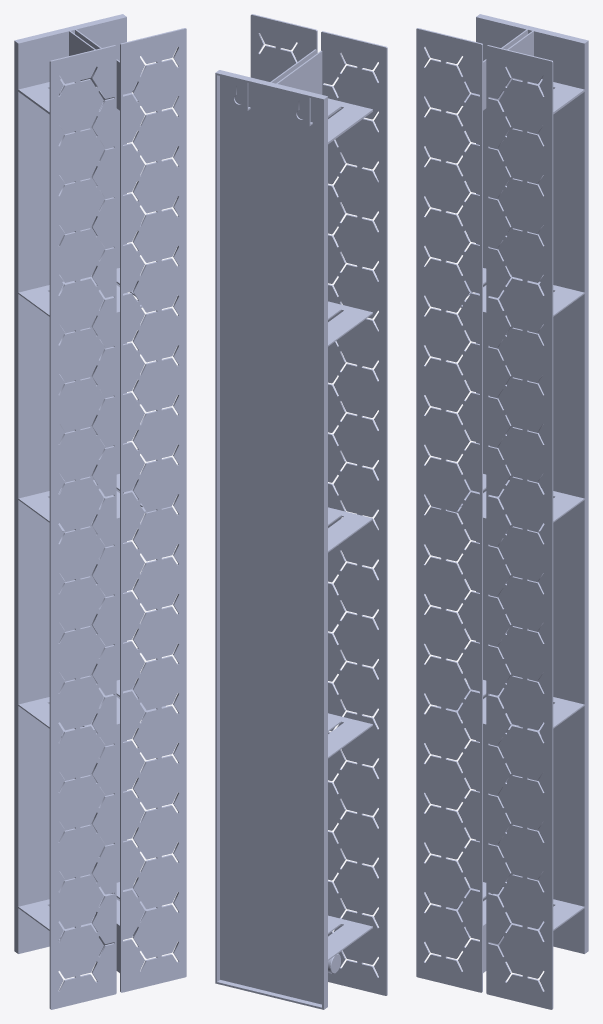
File: bee-prima.5e311cfa00.glb
The picture shows the model from 3 angles, left to right: view 1: azimuth 30°, elevation 25°; view 2: azimuth 150°, elevation 25°; view 3: azimuth 330°, elevation 25°; orthographic projection.
Visible parts, largest first — view 1: NAUO1; view 2: NAUO1; view 3: NAUO1.
Part boxes in pixels (bbox=[...]): NAUO1: bbox=[14, 14, 186, 1009]; NAUO1: bbox=[215, 14, 387, 1009]; NAUO1: bbox=[416, 14, 588, 1009].
Size of the model in its own units: 0.15 by 1 by 0.096.
